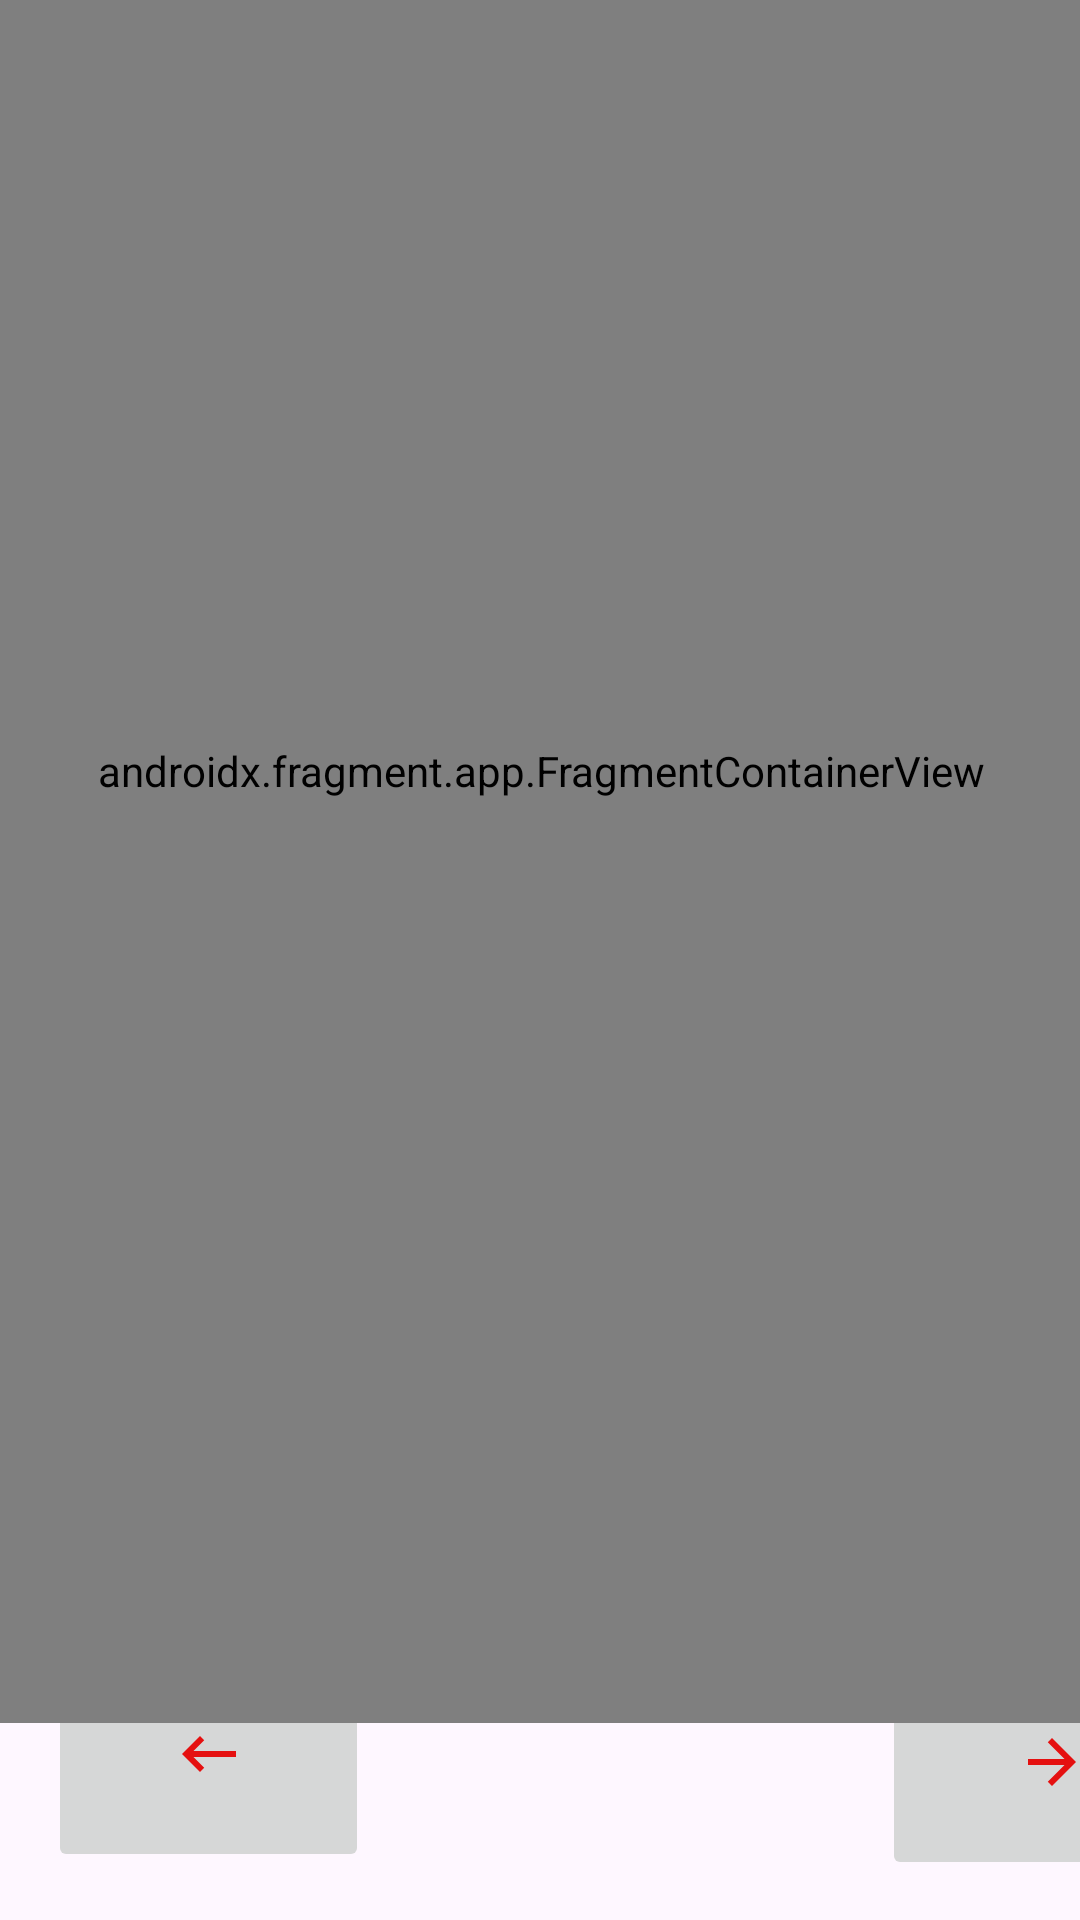

Icons on this 1080px x 1920px Android screen, each with the point to tap as point (x, y):
Voltar: point (208, 1753)
